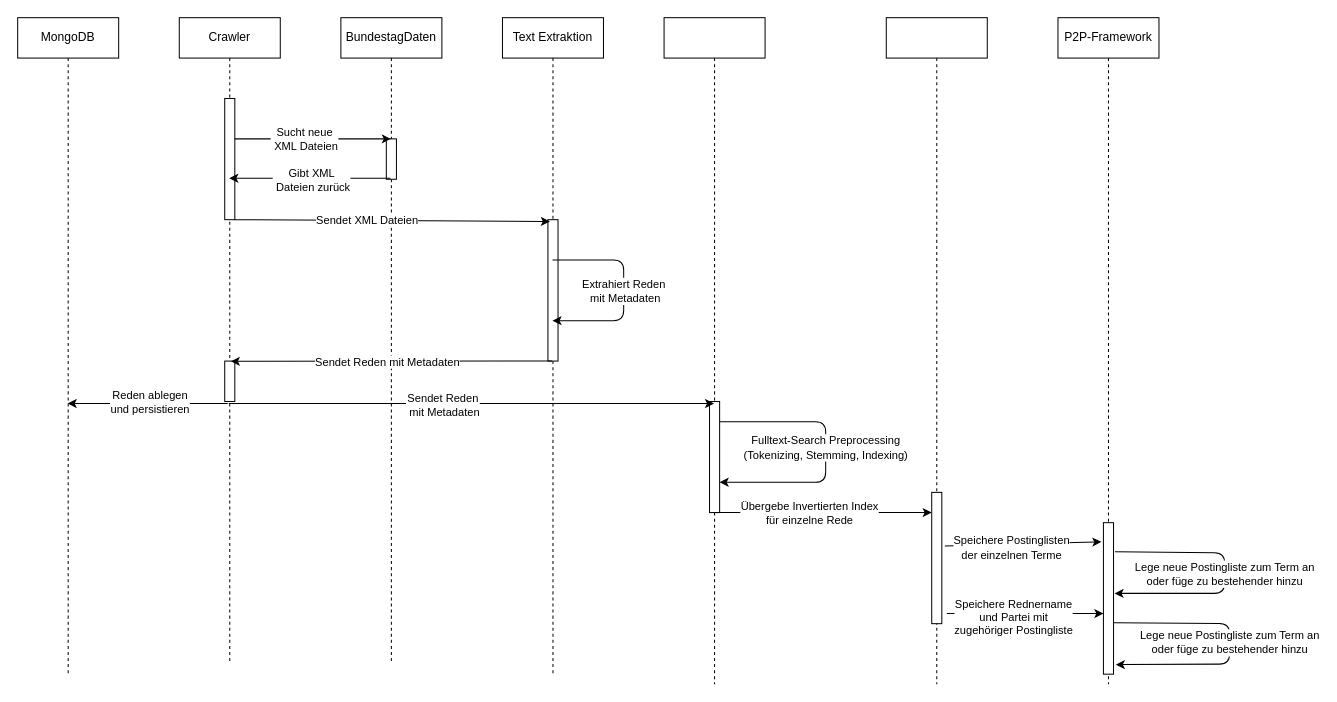
This 1337x702 diagram has some shape labels left out. Each missing label, with the box of its shape:
P2P-Logik: (885, 17, 987, 684)
Volltextsuche: (663, 17, 765, 684)
